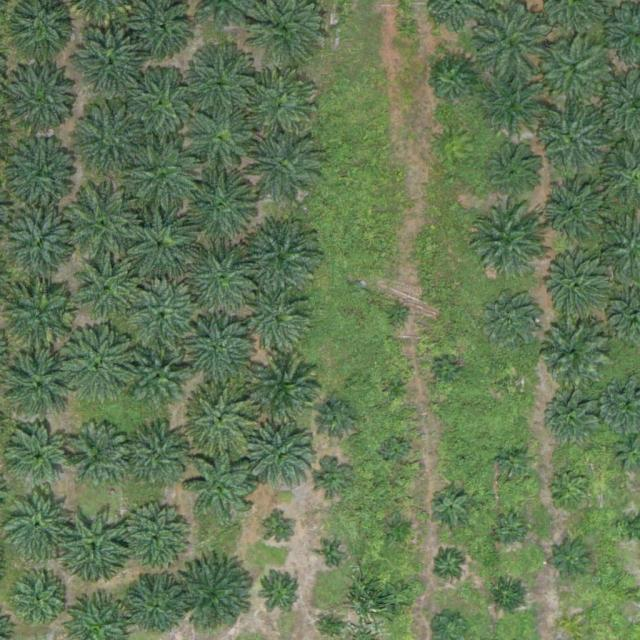Healthy: (471, 2, 549, 81), (183, 44, 261, 123), (125, 66, 203, 145), (242, 67, 320, 146), (3, 61, 81, 140), (5, 135, 83, 214), (3, 276, 81, 355), (2, 349, 80, 428), (63, 186, 141, 265), (68, 104, 146, 183), (71, 24, 149, 103), (123, 143, 201, 222), (119, 207, 197, 286), (124, 284, 202, 363), (179, 316, 257, 395), (184, 244, 262, 323), (181, 169, 259, 248), (244, 130, 322, 209), (242, 221, 320, 300), (249, 358, 327, 437), (467, 202, 545, 281), (58, 507, 136, 586), (3, 206, 81, 284), (62, 328, 140, 406), (180, 558, 258, 636), (542, 39, 612, 110), (480, 71, 550, 142), (539, 106, 609, 177), (536, 317, 607, 387), (188, 384, 258, 455), (187, 450, 258, 520), (541, 252, 611, 322), (248, 425, 318, 495), (118, 504, 188, 574), (77, 260, 140, 323), (544, 182, 607, 245), (124, 573, 187, 636), (190, 111, 253, 173), (249, 293, 311, 356), (480, 289, 542, 352), (128, 426, 190, 489), (65, 426, 127, 489), (9, 428, 71, 491), (8, 569, 70, 632), (130, 352, 185, 408), (487, 143, 542, 198), (548, 394, 602, 449), (431, 58, 478, 105), (384, 584, 415, 616)
Small: (257, 568, 304, 615), (488, 575, 528, 615), (318, 398, 357, 438), (431, 487, 470, 527), (495, 444, 534, 484), (552, 472, 591, 512), (312, 460, 351, 499), (552, 541, 591, 580), (266, 516, 297, 548), (435, 551, 466, 582), (494, 515, 525, 546), (384, 439, 408, 463), (386, 377, 410, 401), (387, 303, 411, 327), (388, 517, 412, 541), (502, 374, 526, 397), (438, 361, 461, 385), (320, 546, 343, 569), (323, 614, 346, 637), (565, 619, 580, 635), (457, 455, 472, 470)
